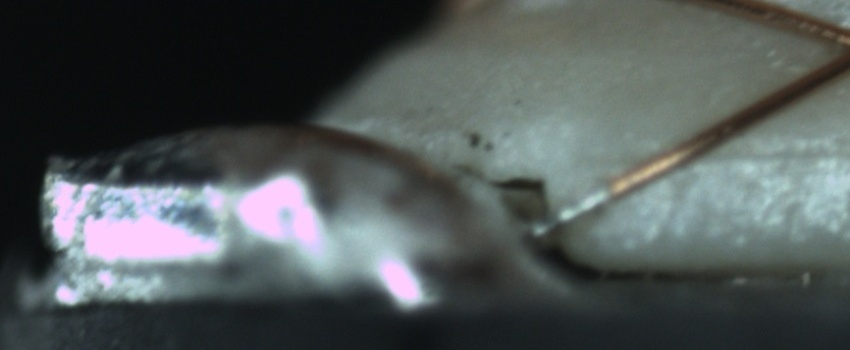CL: (804, 10, 849, 84)
DL: (610, 125, 846, 188)
TS: (531, 184, 614, 237)
TTCW: (534, 156, 662, 236)
